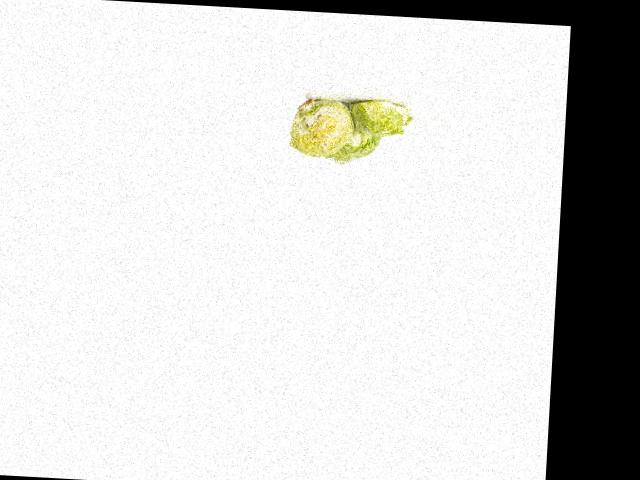lettuce: (318, 121, 387, 168)
